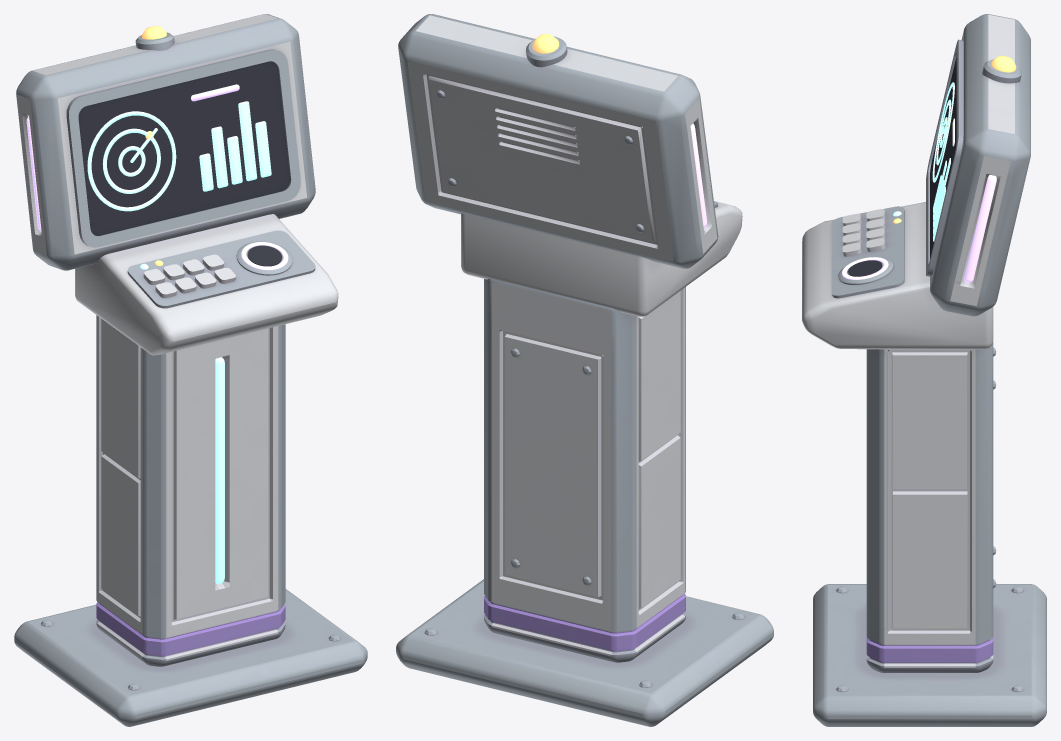
The model's file is sci-fi-terminal.glb.
The picture shows the model from 3 angles, left to right: view 1: azimuth 30°, elevation 25°; view 2: azimuth 150°, elevation 25°; view 3: azimuth 270°, elevation 25°; orthographic projection. The views are drawn at different scales.
Visible parts, largest first — view 1: sci-fi-terminal_body, sci-fi-terminal_lights_glow; view 2: sci-fi-terminal_body, sci-fi-terminal_lights_glow; view 3: sci-fi-terminal_body, sci-fi-terminal_lights_glow.
Boxes of the visible parts, box(x1,y1,x2,y2) form: sci-fi-terminal_body: box(14, 14, 367, 726); sci-fi-terminal_lights_glow: box(26, 26, 288, 583); sci-fi-terminal_body: box(396, 14, 773, 726); sci-fi-terminal_lights_glow: box(532, 34, 707, 227); sci-fi-terminal_body: box(802, 14, 1046, 726); sci-fi-terminal_lights_glow: box(842, 55, 1016, 282).
Bounding box in the file's own units: 0.64 × 1.39 × 0.5025.
4 materials, 1 textured.
